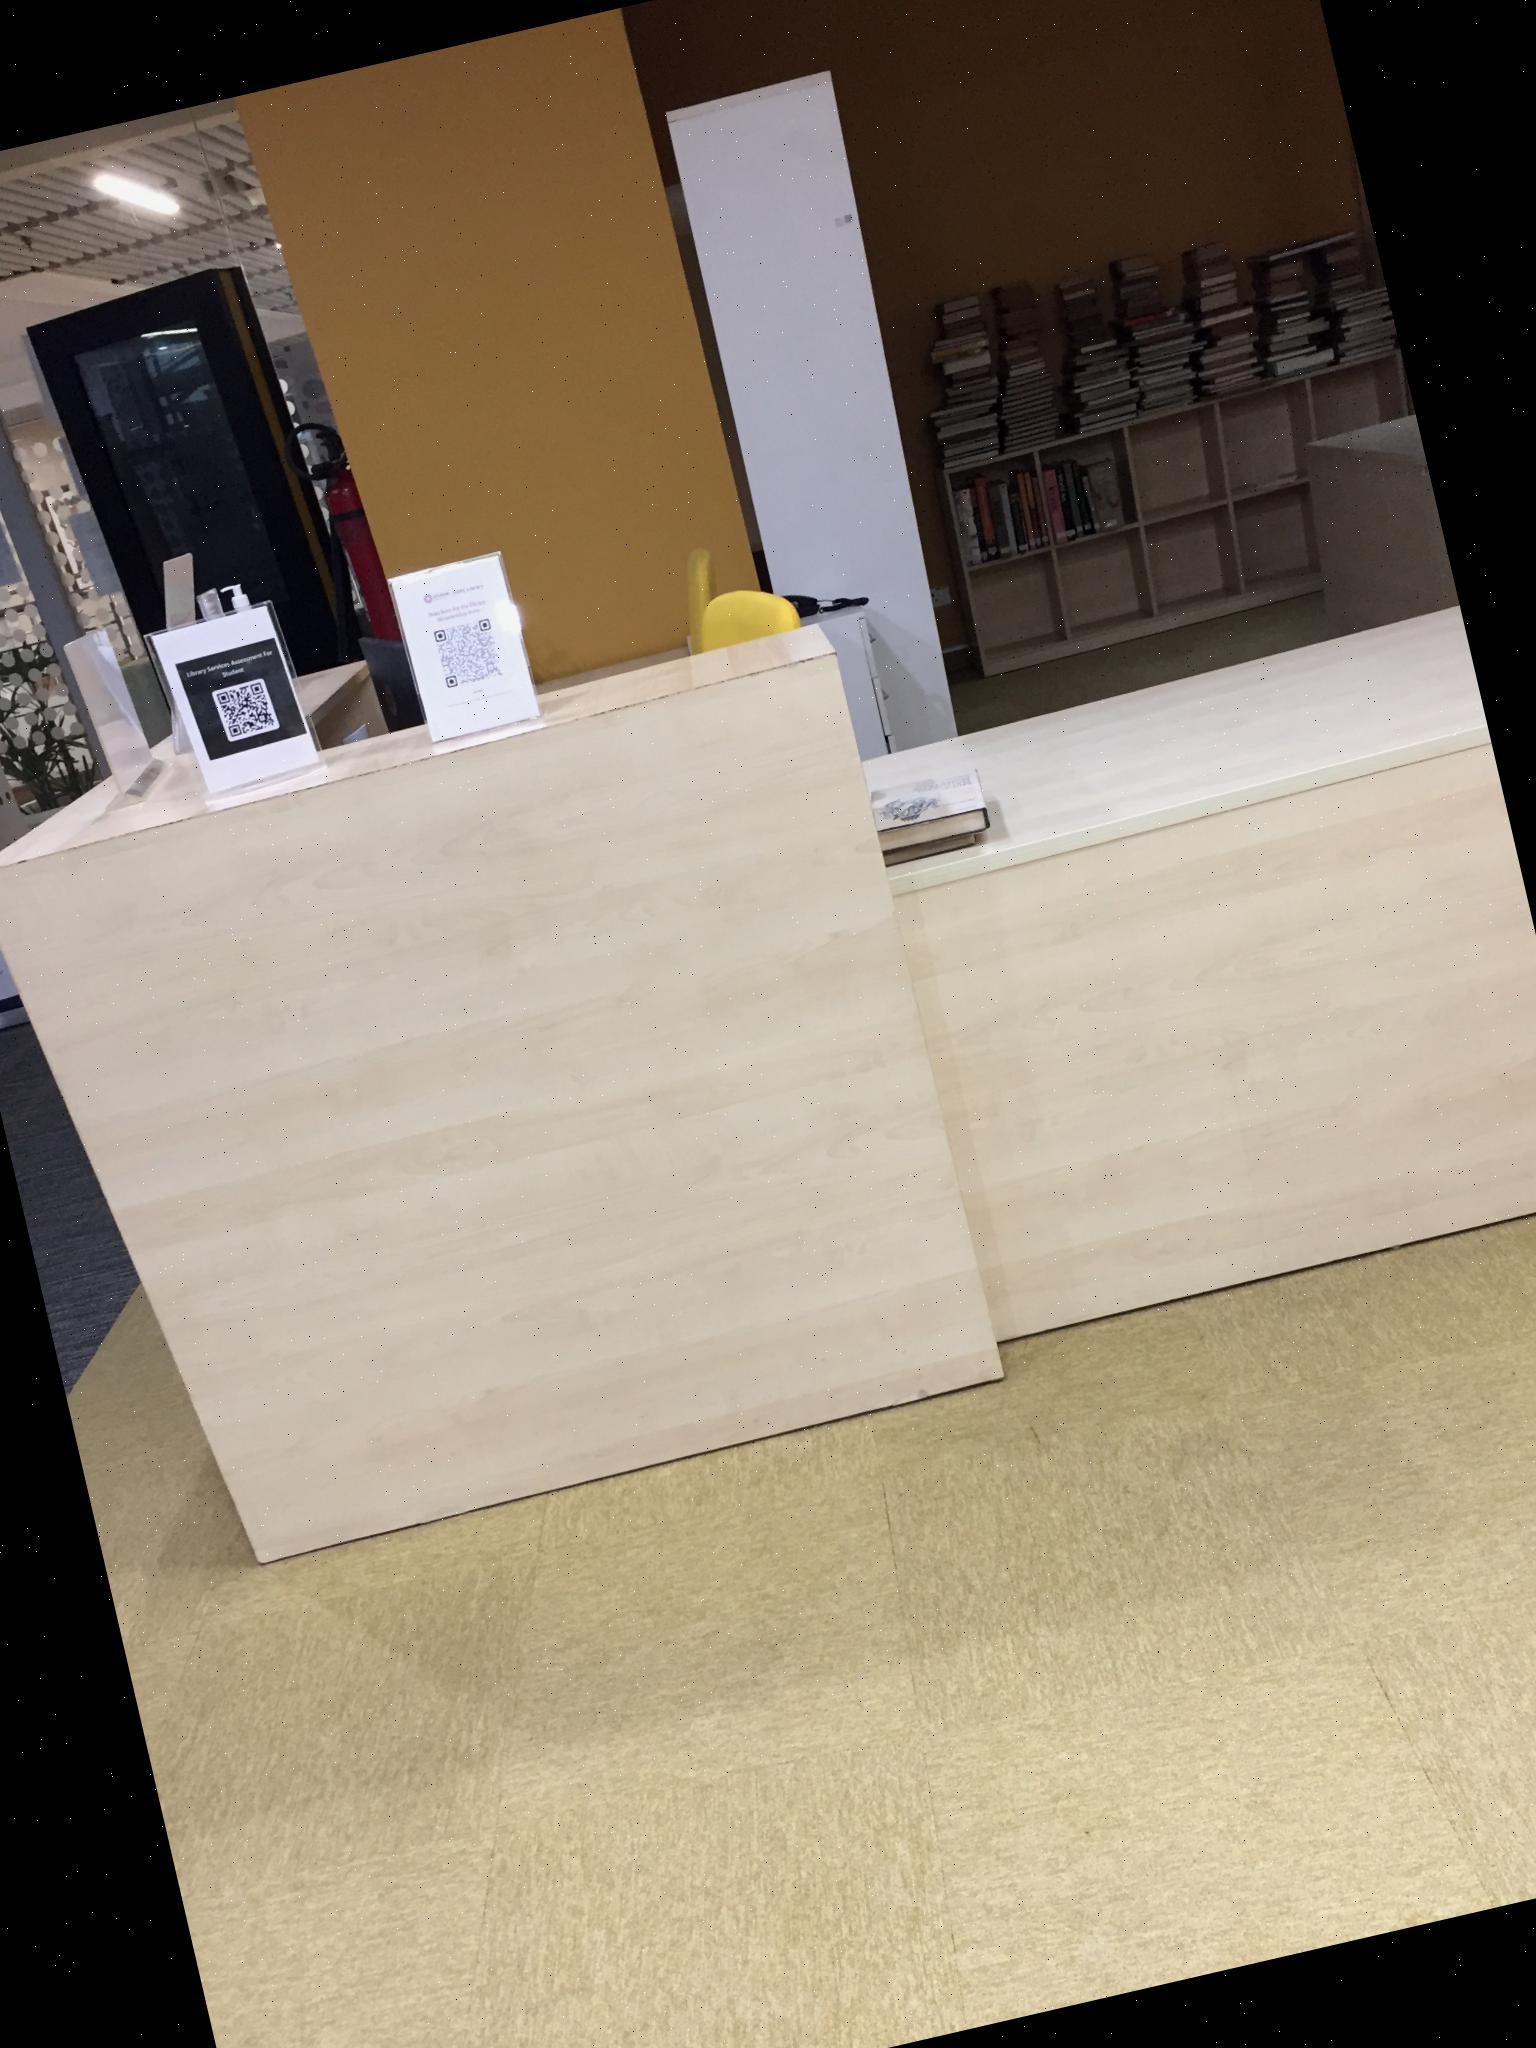chair: (474, 576, 874, 1009)
